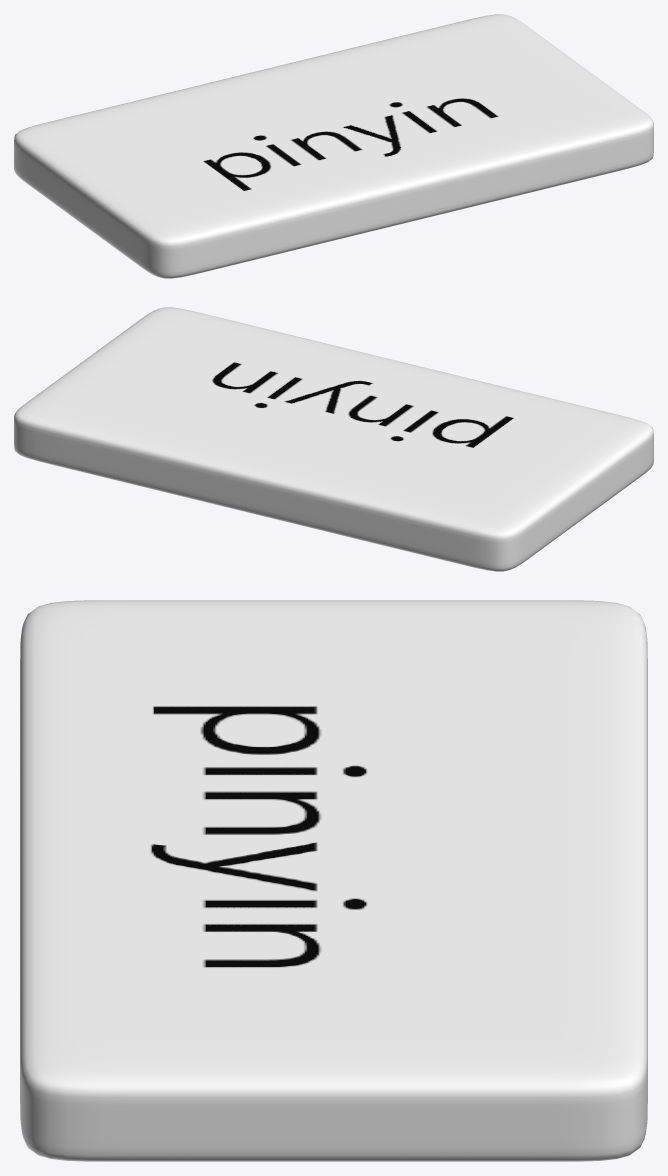
File: 2_pinyin.fbx
3 renders of one model, top to bottom at view 1: azimuth 30°, elevation 25°; view 2: azimuth 150°, elevation 25°; view 3: azimuth 270°, elevation 25°, orthographic. The views are drawn at different scales.
Visible parts, largest first — view 1: 立方体; view 2: 立方体; view 3: 立方体.
Boxes of the visible parts, x1=… form: 立方体: x1=14, y1=14, x2=653, y2=278; 立方体: x1=14, y1=307, x2=653, y2=571; 立方体: x1=20, y1=600, x2=647, y2=1161.
Size of the model in its own units: 370 by 30 by 200.
1 material, 1 textured.
